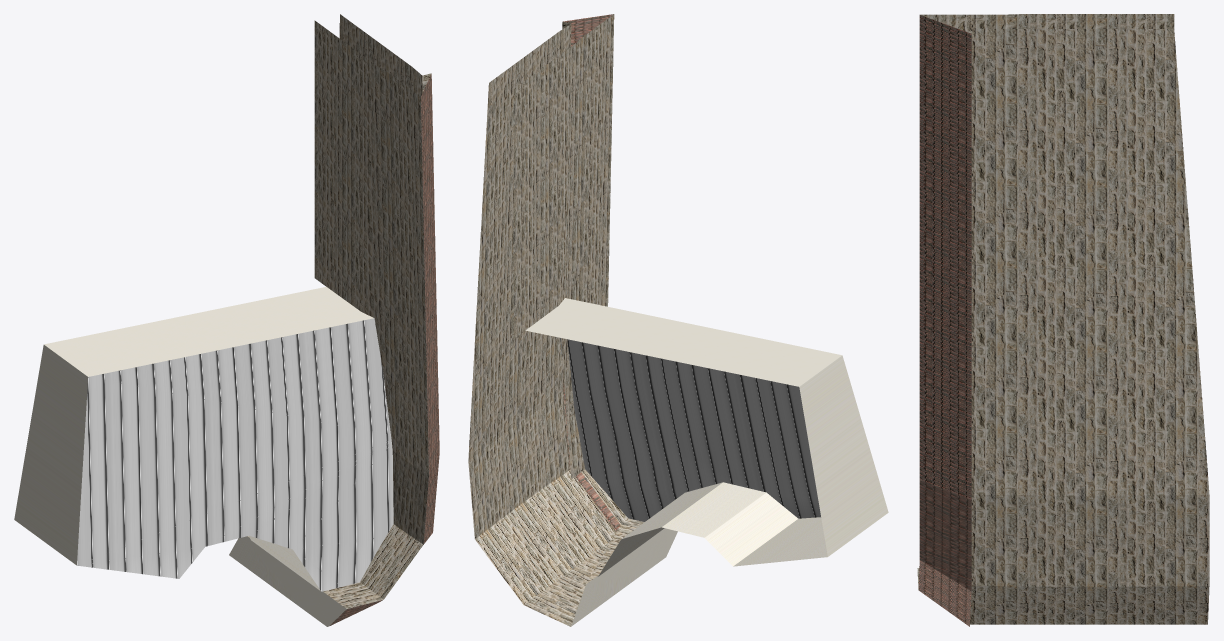
File: Pikk_68_2-origo.obj
3 renders of one model, left to right at view 1: azimuth 30°, elevation 25°; view 2: azimuth 150°, elevation 25°; view 3: azimuth 270°, elevation 25°, orthographic. The views are drawn at different scales.
Parts seen in each view (by area): view 1: Pikk_68_2, xxx; view 2: Pikk_68_2, xxx; view 3: Pikk_68_2.
Boxes of the visible parts, x1,y1,x2,y2 form: Pikk_68_2: (44, 14, 439, 625); xxx: (14, 345, 346, 626); Pikk_68_2: (468, 14, 841, 626); xxx: (571, 355, 888, 626); Pikk_68_2: (917, 14, 1209, 626).
Bounding box in the file's own units: 16.5 × 23.5 × 9.74.
